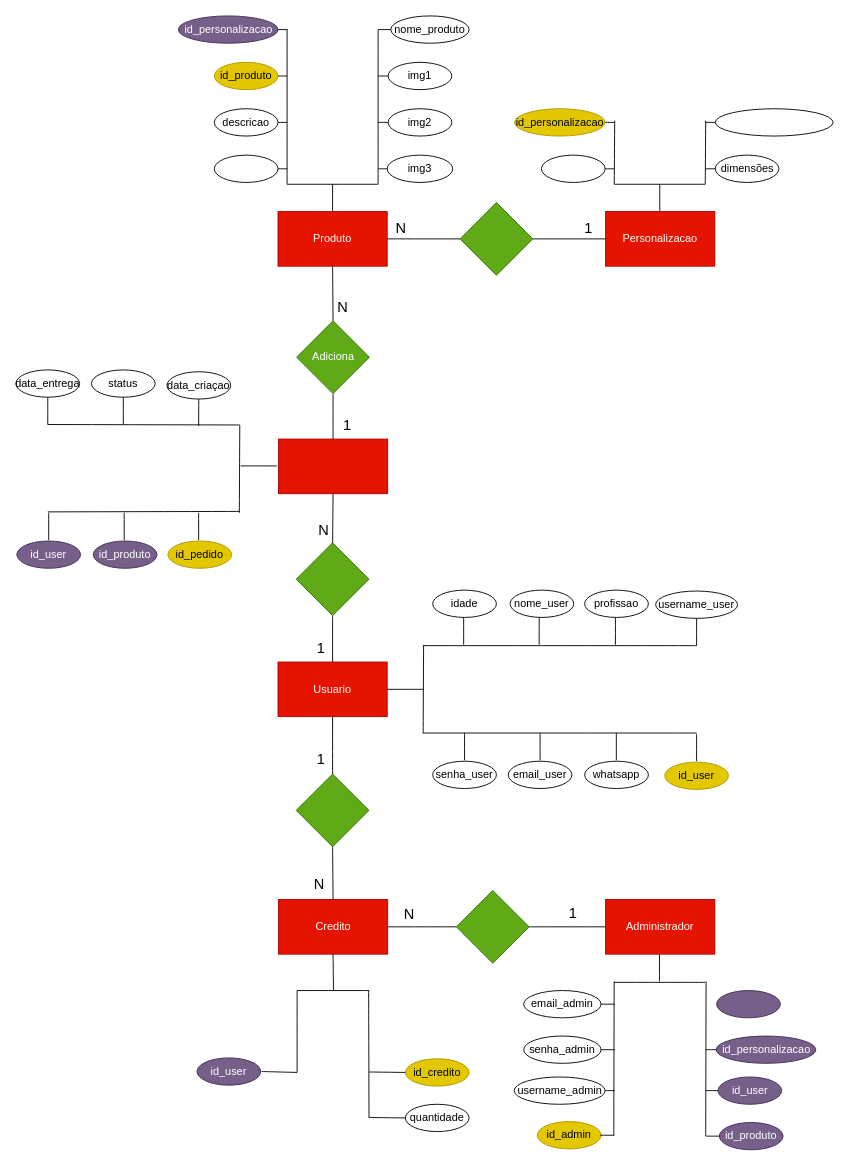
Image size: 849x1166. Some labels were removed from this diagram. The centre of each missing label's shape, as x and y in pixels:
Concede: (332,810)
Consulta: (332,579)
Controla: (492,926)
cor: (573,168)
id_crédito: (748,1004)
nome_personalização: (773,122)
Pedido: (333,466)
Permite: (496,238)
preco: (245,168)
